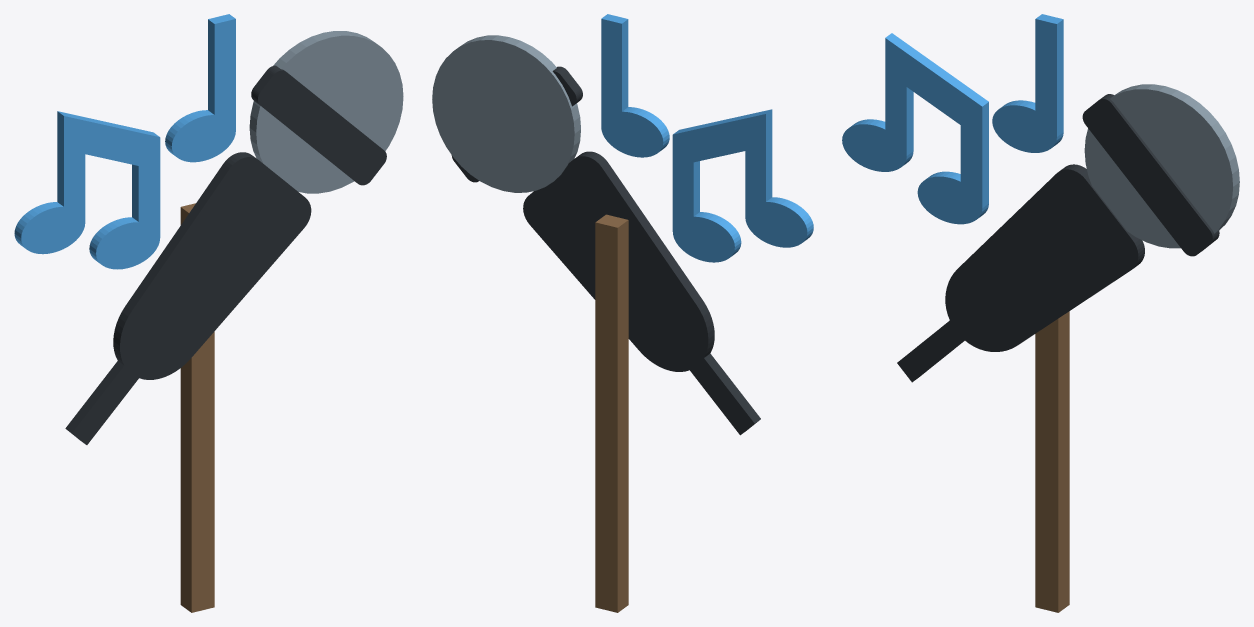
File: micro.glb
3 renders of one model, left to right at view 1: azimuth 30°, elevation 25°; view 2: azimuth 150°, elevation 25°; view 3: azimuth 330°, elevation 25°, orthographic. The views are drawn at different scales.
Bounding box in the file's own units: 1 × 1.48 × 0.101.
